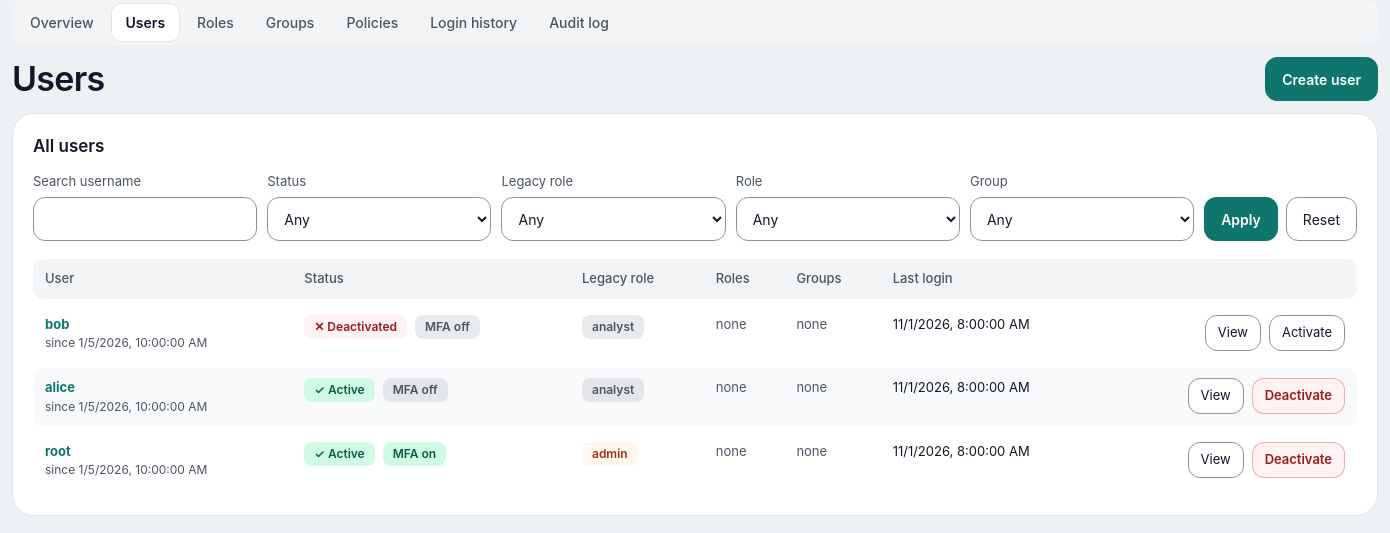
Test: IAM users list › filters by status for real
The image size is (1390, 533).
Step 1. Select "Deactivated" in the dropdown labelled "Status" → (379, 219), box left=267, top=197, right=491, bottom=241
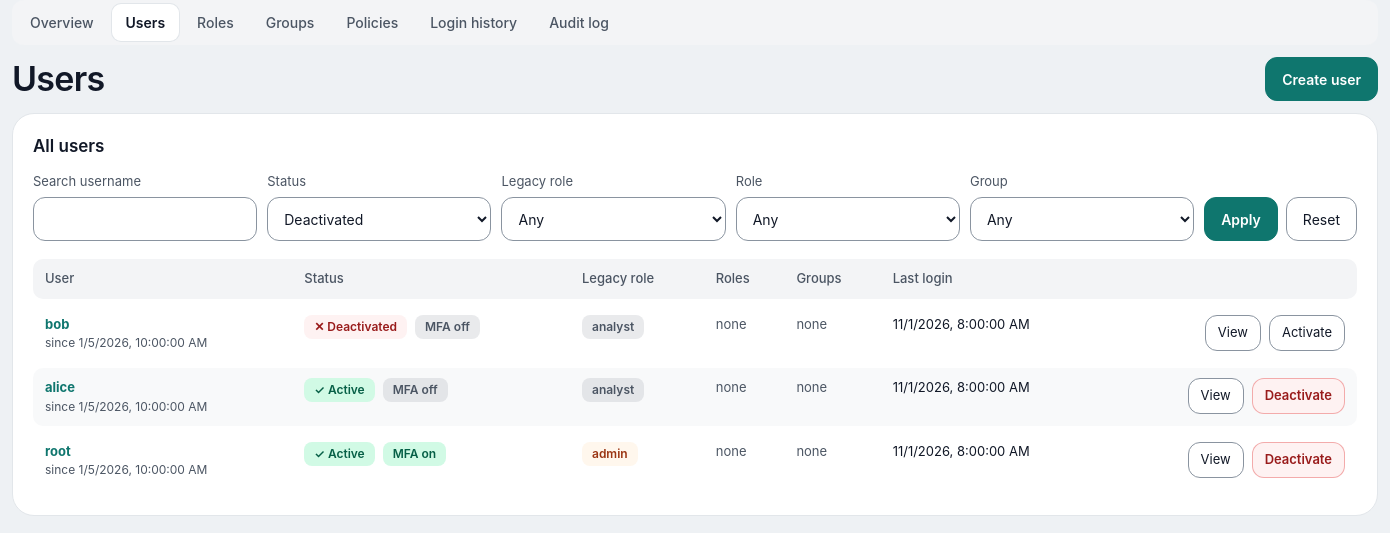
Step 2. Click the button "Apply" → (1241, 219), box left=1204, top=197, right=1278, bottom=241
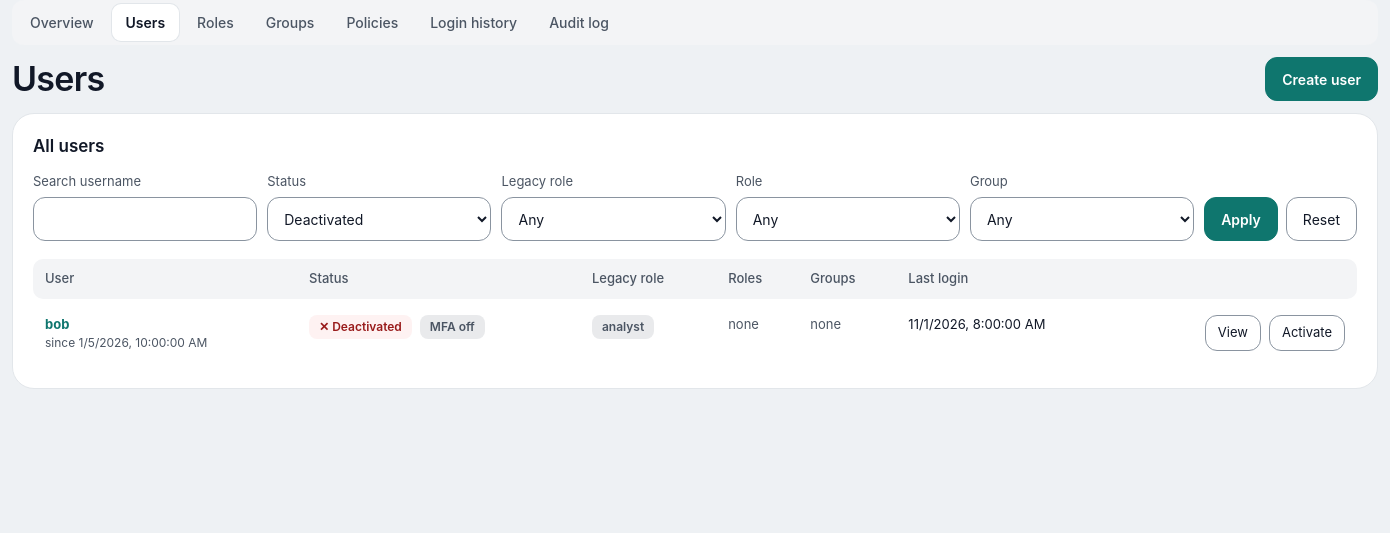
Expected: the link "bob" is shown, left=45, top=316, right=69, bottom=332
Expected: the link "alice" is gone
